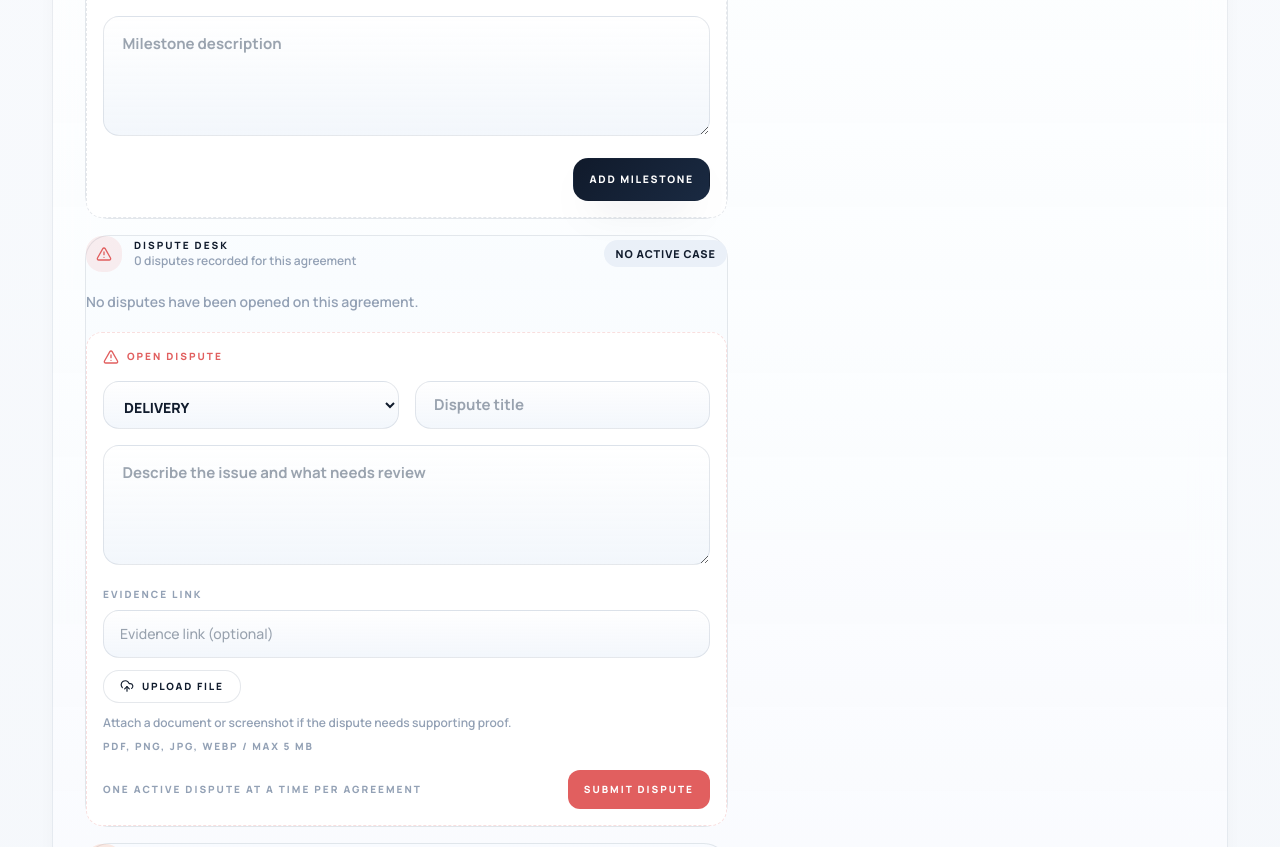
Agreements lifecycle flow › opens a dispute and reloads the dispute desk for an active agreement
(page scrolled)
Select "QUALITY" in the dropdown showing "DELIVERY" at (251, 405), box [103,381,398,429]
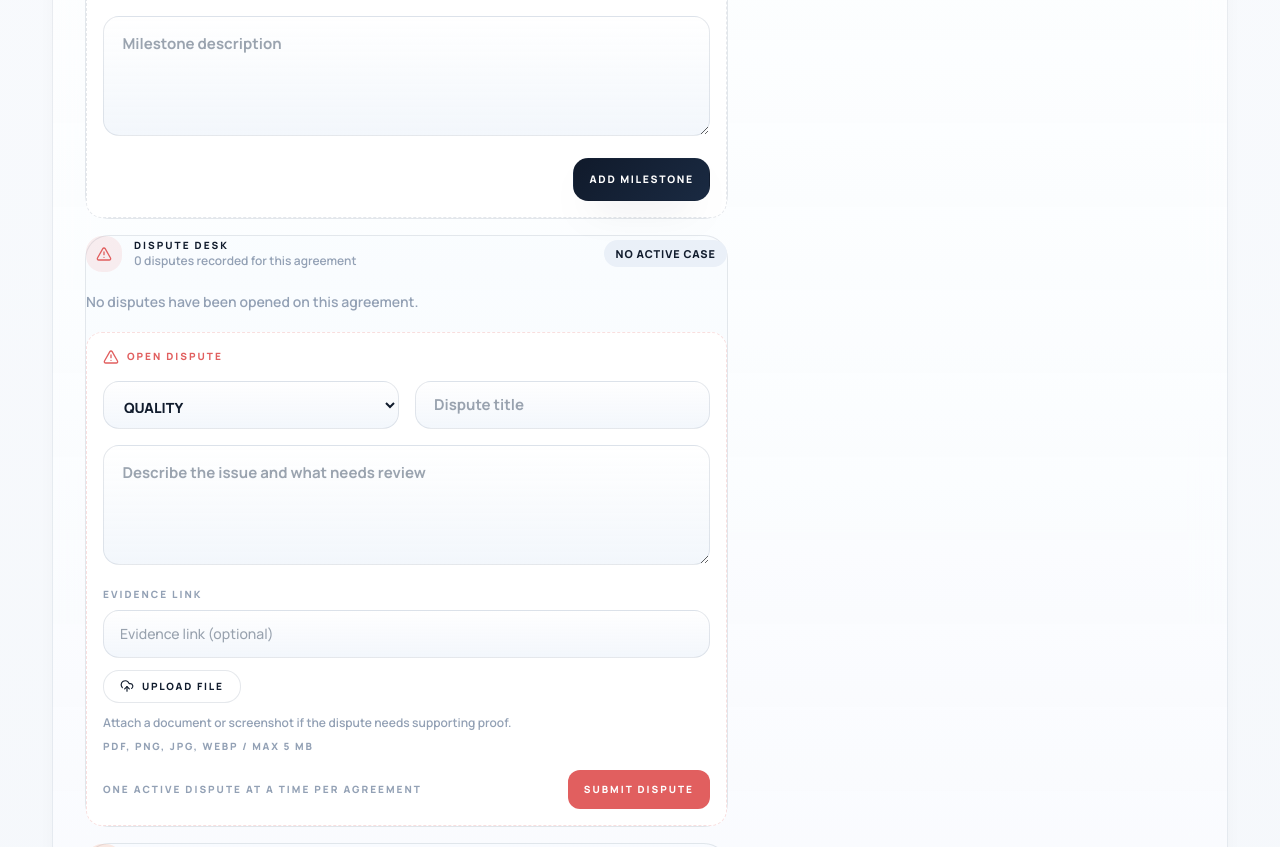
Type "Final asset delivery" into the field with placeholder "Dispute title" at (562, 405), box [414,381,710,429]
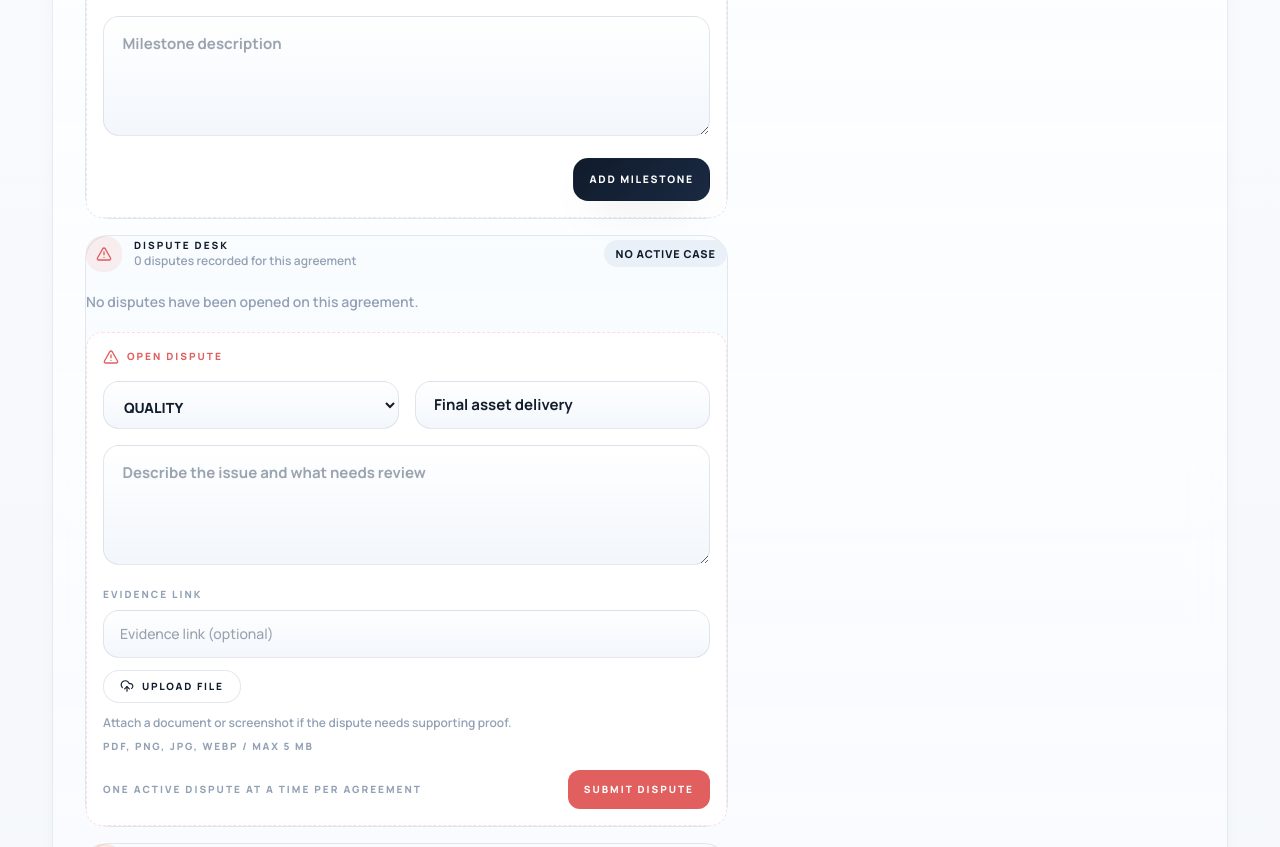
Type "The final packaged assets did not include the approved export set." into the text box with placeholder "Describe the issue and what needs review" at (406, 505), box [103,445,710,565]
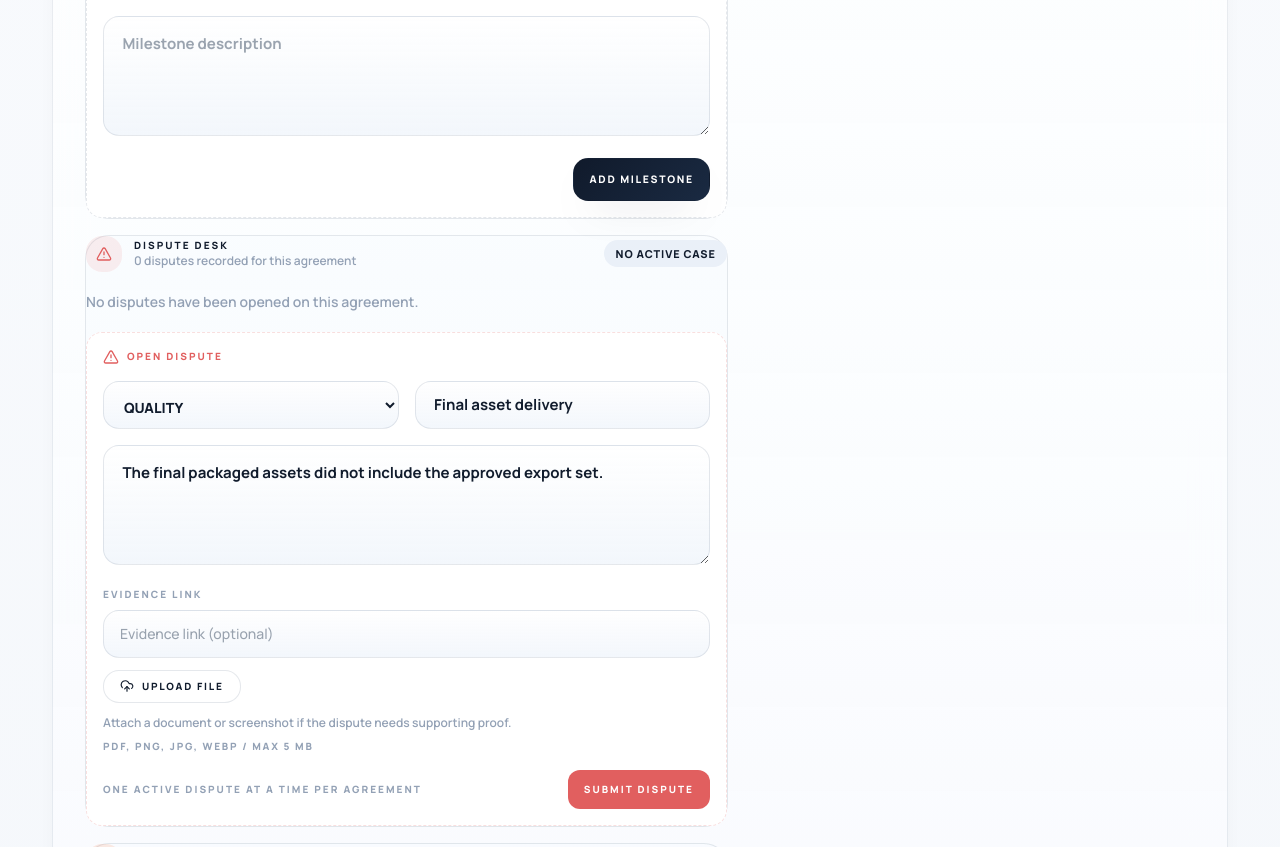
Type "https://evidence.example.com/dispute-1" into the field with placeholder "Evidence link (optional)" at (406, 634), box [103,610,710,658]
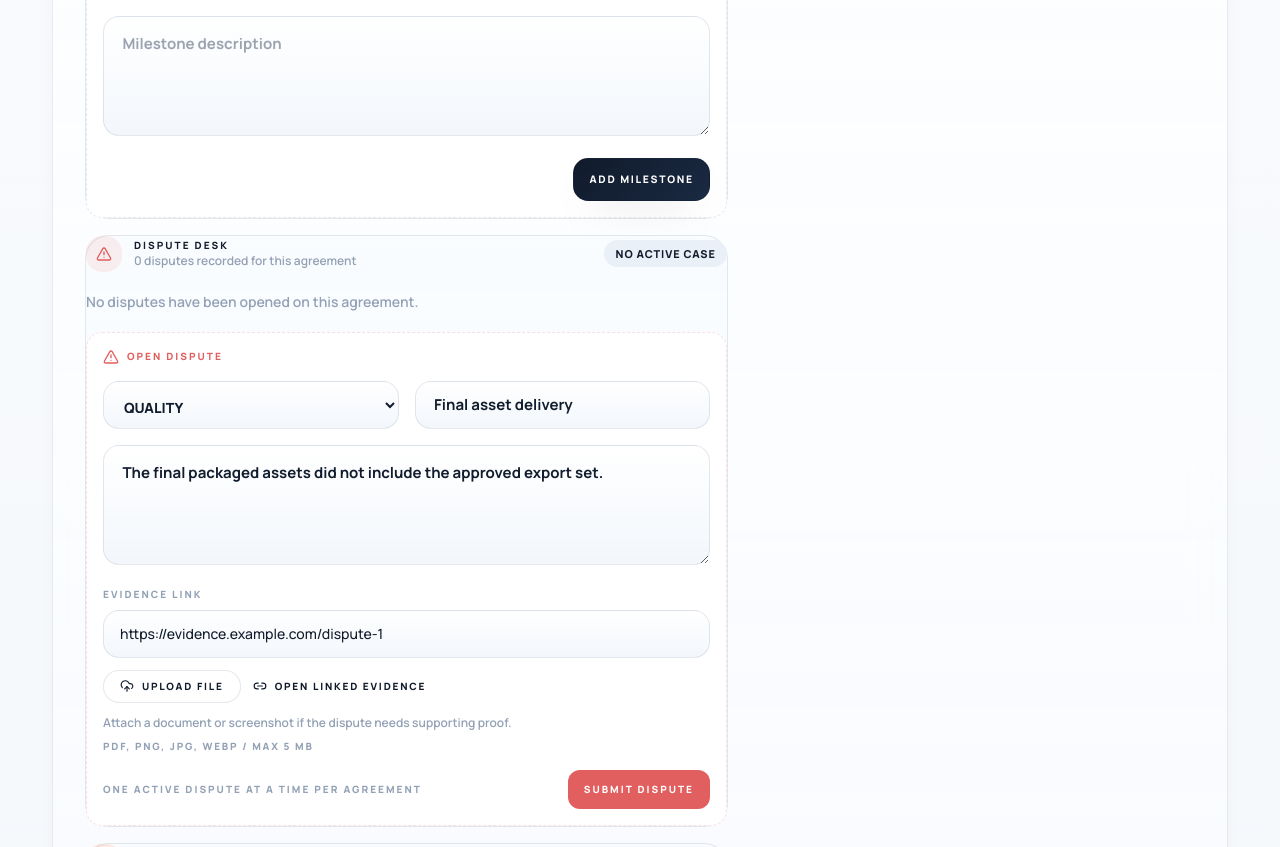
Click the button "Submit Dispute" at (639, 789), box [568,770,710,809]
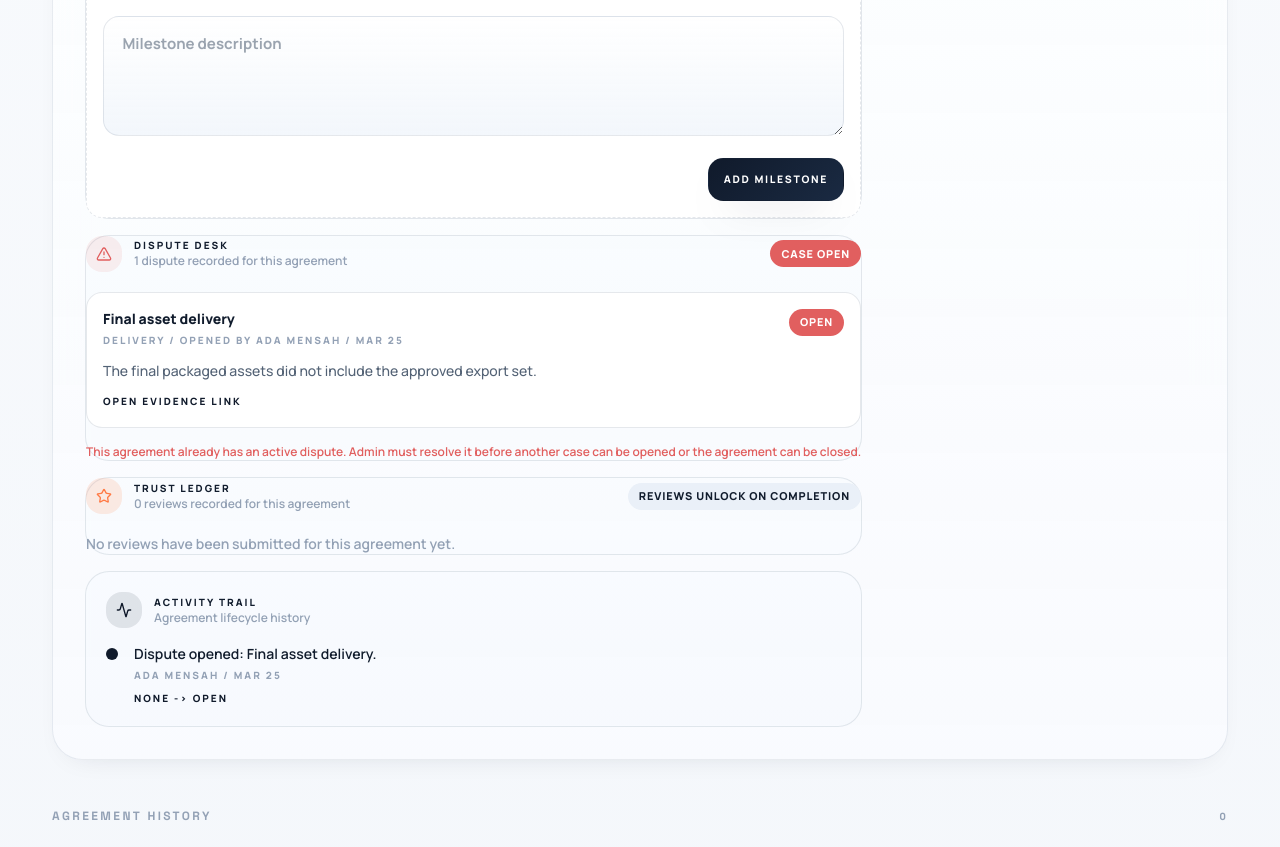
Check: the text "This agreement already has an active dispute. Admin must resolve it before another case can be opened or the agreement c" is shown, box [86,443,861,460]
Check: the text "OPEN" is shown, box [789,309,844,336]
